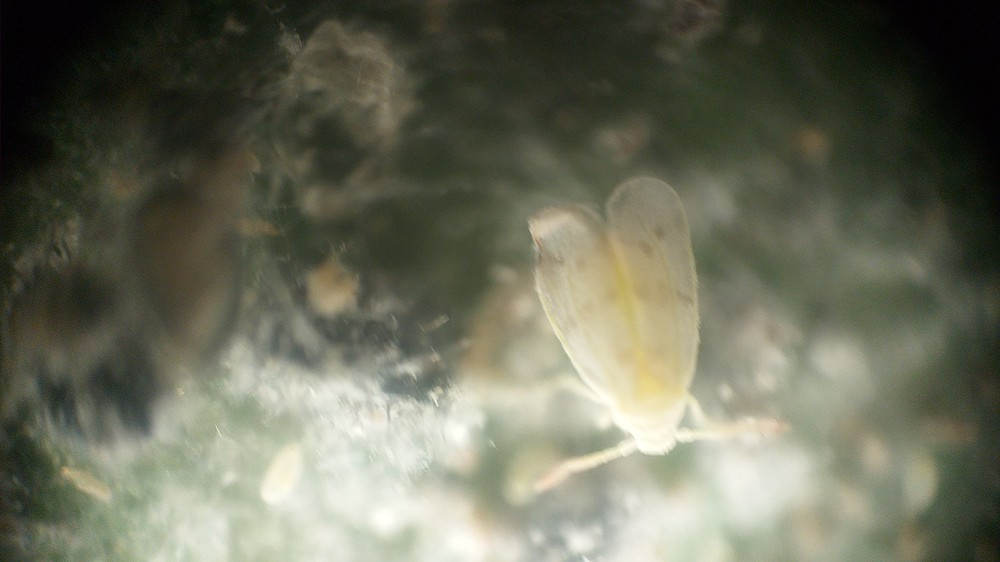Mosca Blanca: (483, 172, 836, 495)
